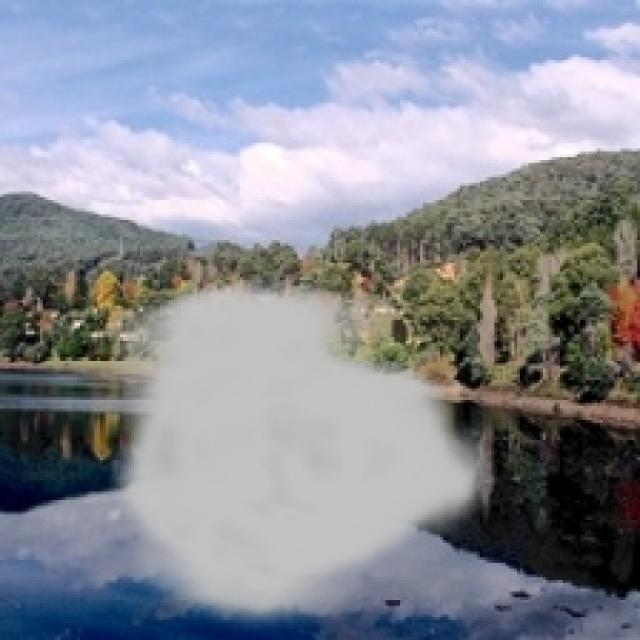smoke: (109, 274, 497, 634)
